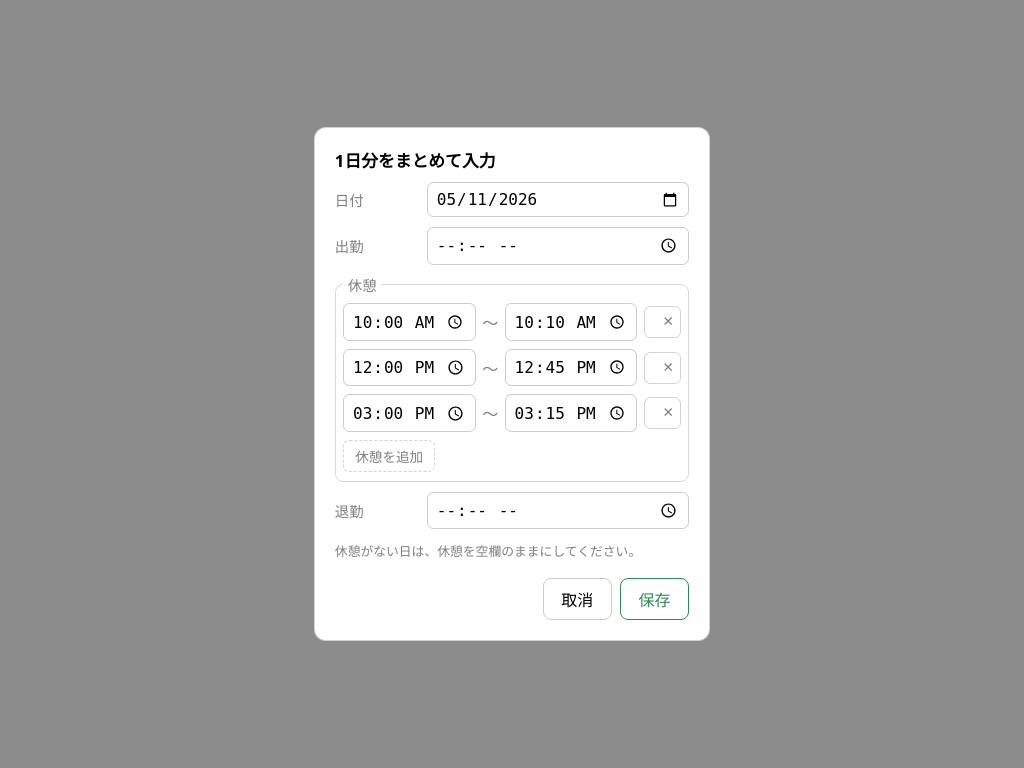
it: DayEntryDialog › 途中の行を削除しても他の行の値が残る
This screenshot has width=1024, height=768.
Click the 2nd button with class "remove-break" at coordinates (662, 368), box top-left (644, 352), bottom-right (681, 384)
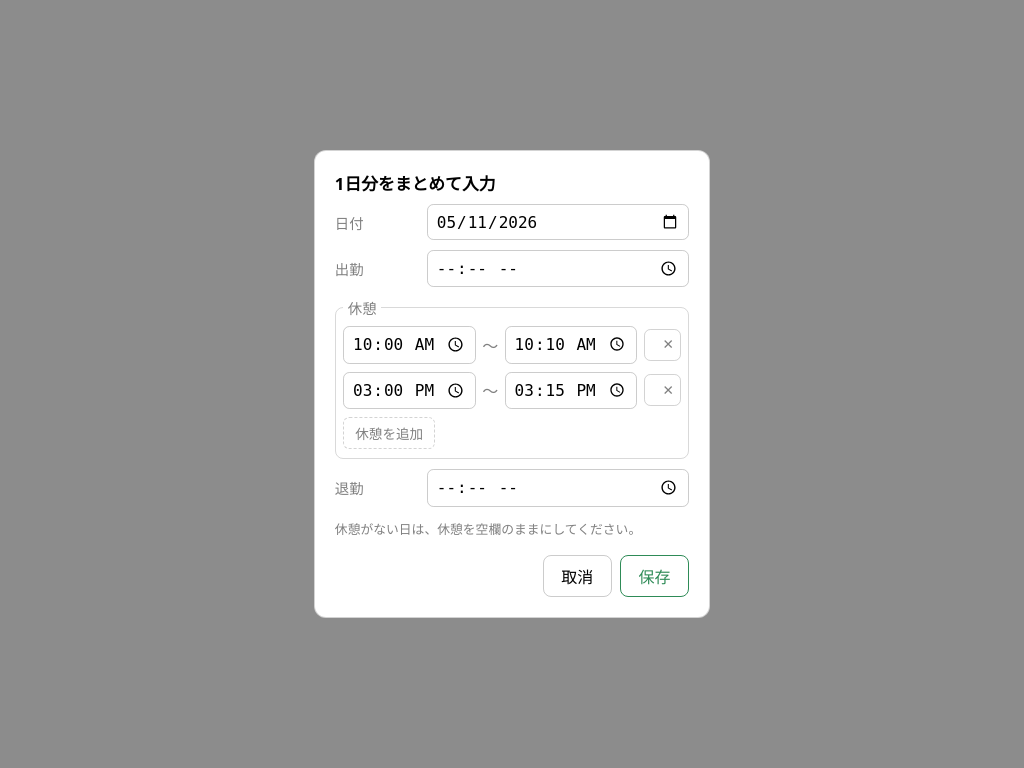
Expected: the time field named "休憩1の開始" holds "10:00", top-left (343, 326), bottom-right (476, 364)
Expected: the number of elements with class "break-row" is 2, top-left (343, 326), bottom-right (681, 364); top-left (343, 372), bottom-right (681, 409)
